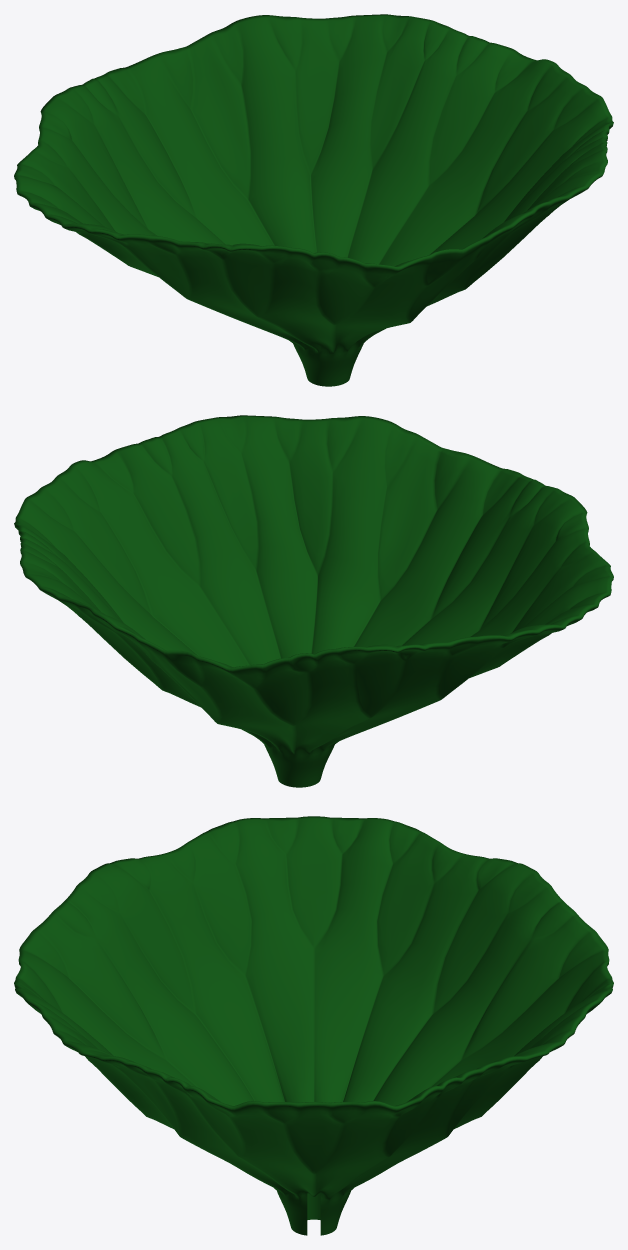
File: e_lotus_leaf_b.glb
3 views of the same model, one above another, from view 1: azimuth 30°, elevation 25°; view 2: azimuth 150°, elevation 25°; view 3: azimuth 270°, elevation 25° (orthographic). The views are drawn at different scales.
Parts seen in each view (by area): view 1: lotus_leaf_b; view 2: lotus_leaf_b; view 3: lotus_leaf_b.
Boxes of the visible parts, x1,y1,x2,y2 form: lotus_leaf_b: (14,14,613,386); lotus_leaf_b: (14,415,613,787); lotus_leaf_b: (14,816,613,1235).
Size of the model in its own units: 0.1474 by 0.0644 by 0.1318.
